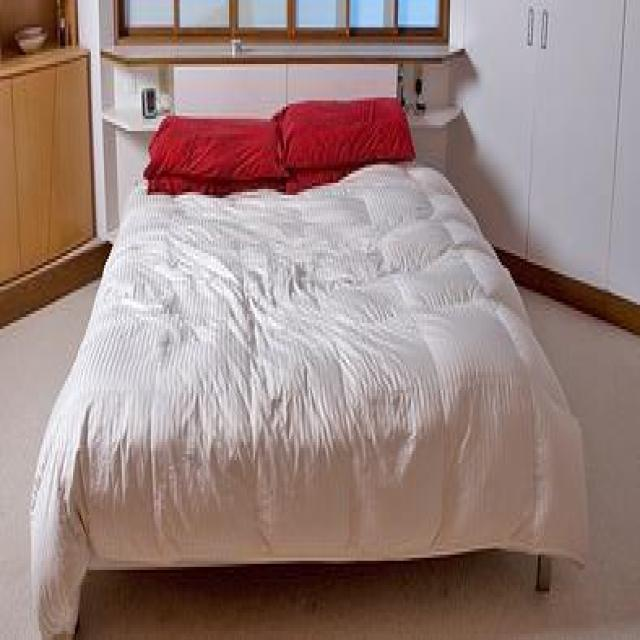bed: (29, 82, 592, 640)
